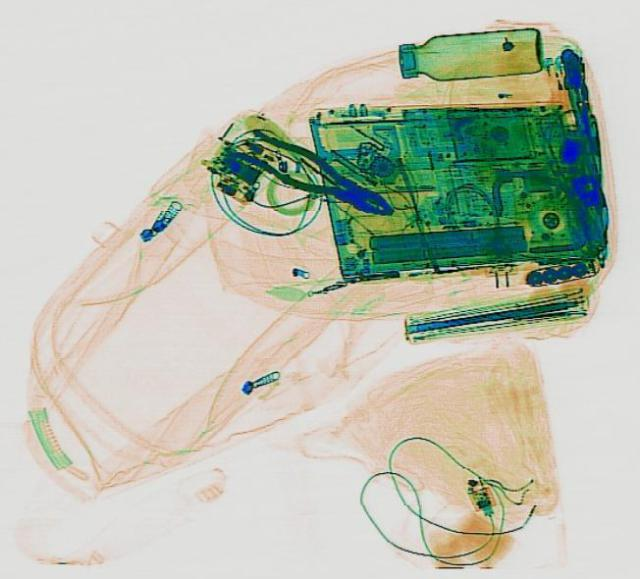Pliers: (225, 118, 403, 229)
